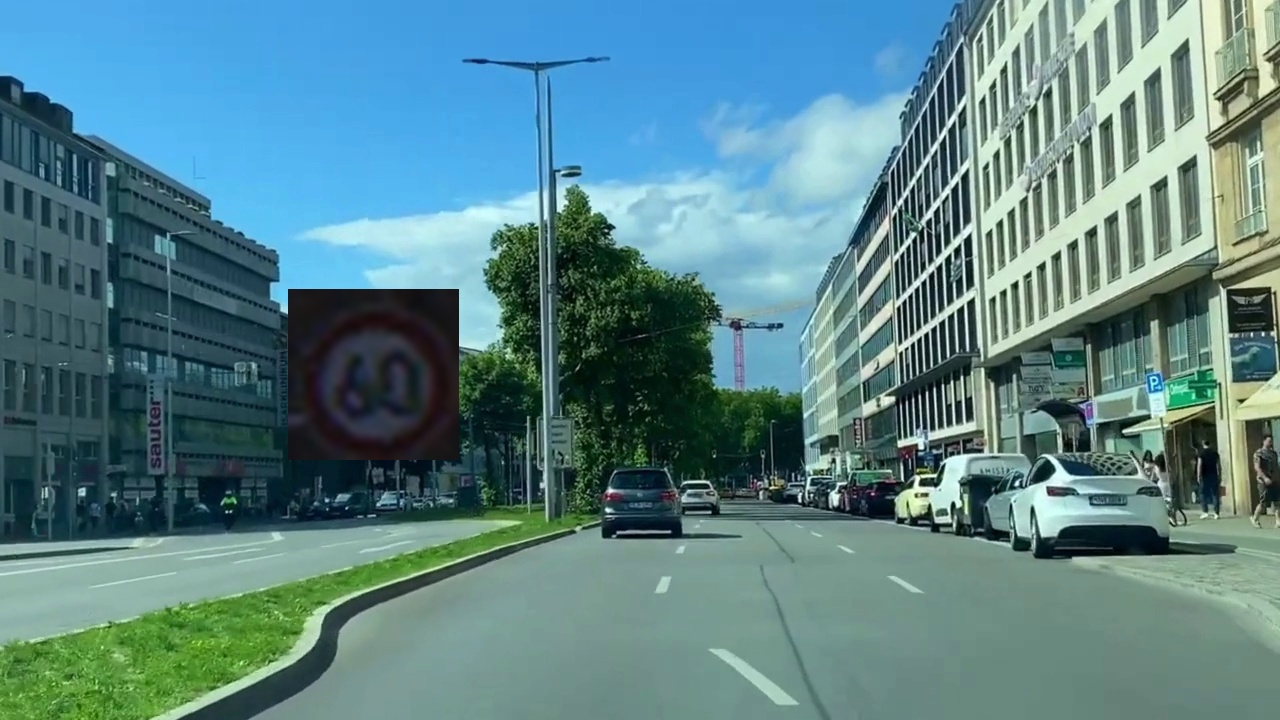Speed 60: (288, 289, 459, 460)
